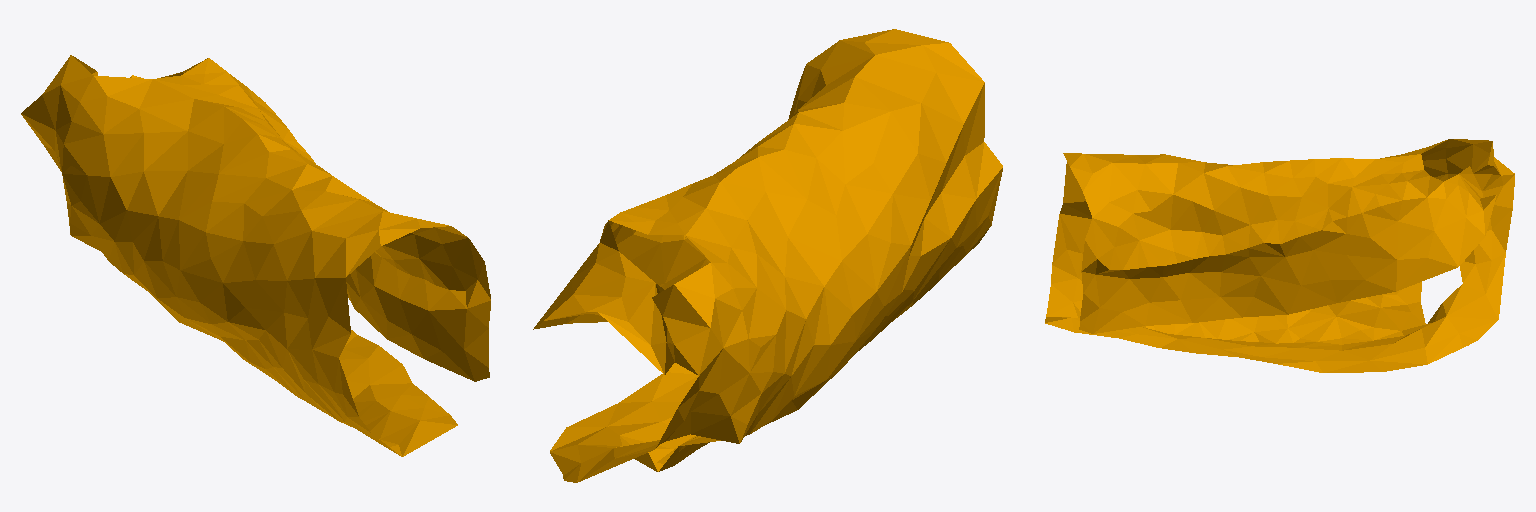
robot.urdf — init:
<?xml version='1.0' encoding='utf-8'?>
<robot name="init">
<link name="link_0"><inertial><mass value="1.0" /><origin rpy="0 0 0" xyz="0.000000 0.000000 0.000000" /><inertia ixx="1.0" ixy="0.0" ixz="0.0" iyy="1.0" iyz="0.0" izz="1.0" /></inertial><visual><origin rpy="0 0 0" xyz="0.000000 0.000000 0.000000" /><geometry><mesh filename="./clothHuman/cloth/2957.obj" /></geometry></visual><collision><origin rpy="0 0 0" xyz="0.000000 0.000000 0.000000" /><geometry><mesh filename="./clothHuman/cloth/2957.obj" /></geometry></collision></link></robot>

--- What the picture shows (computed from the rendered views, not written in the file) ---
Views: 3 orthographic renders of the robot side by side, from view 1: azimuth 30°, elevation 25°; view 2: azimuth 150°, elevation 25°; view 3: azimuth 270°, elevation 25°.
Model init with 1 links and 0 joints (none), rooted at link_0, posed all joints at 0.
Links seen in each view (by area): view 1: link_0; view 2: link_0; view 3: link_0.
Link boxes in pixels (bbox=[...]): link_0: bbox=[21, 55, 490, 456]; link_0: bbox=[533, 29, 1002, 482]; link_0: bbox=[1045, 139, 1514, 372].
Bounding box of the posed robot: 1.52 × 3.92 × 1.66 m (x, y, z).
Meshes: 1 distinct files referenced, 1 mesh visuals loaded (1 OBJ).